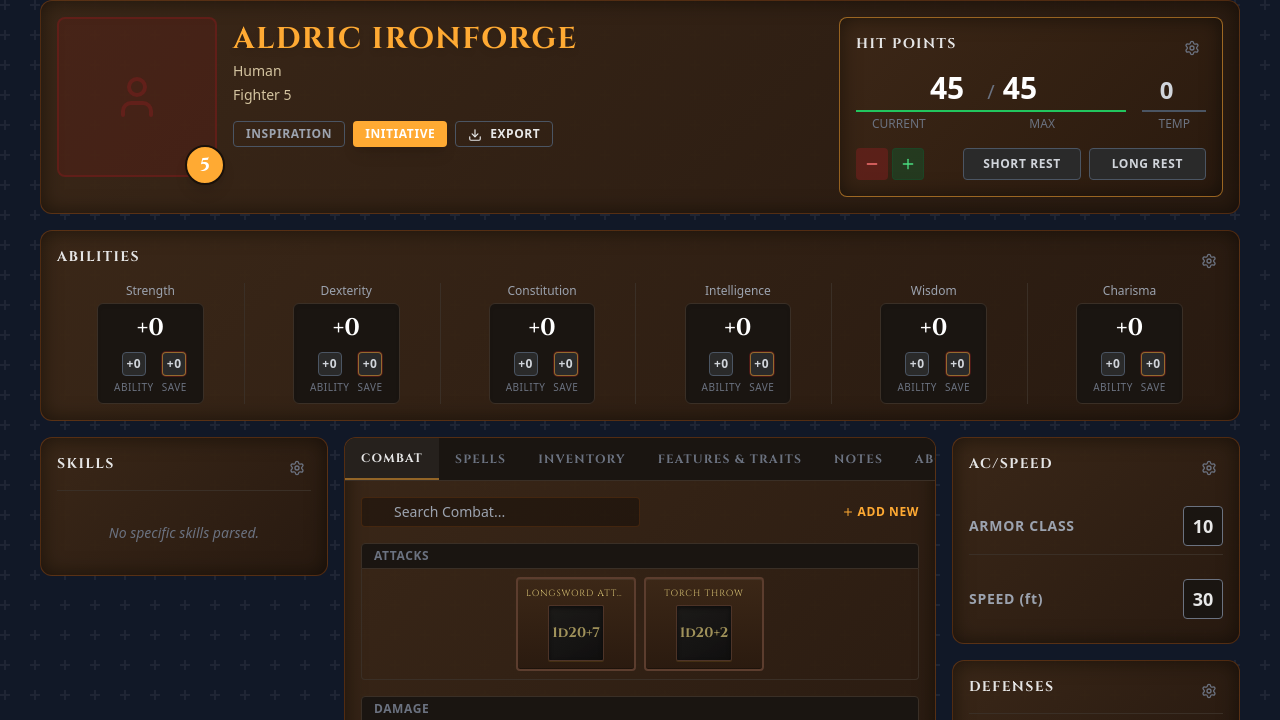
Search filter in Combat tab › filters roll rows to only show matches when user types
In the field with placeholder "Search Combat...": point(500, 512) [361,497,640,527], type "longsword"
(page scrolled)
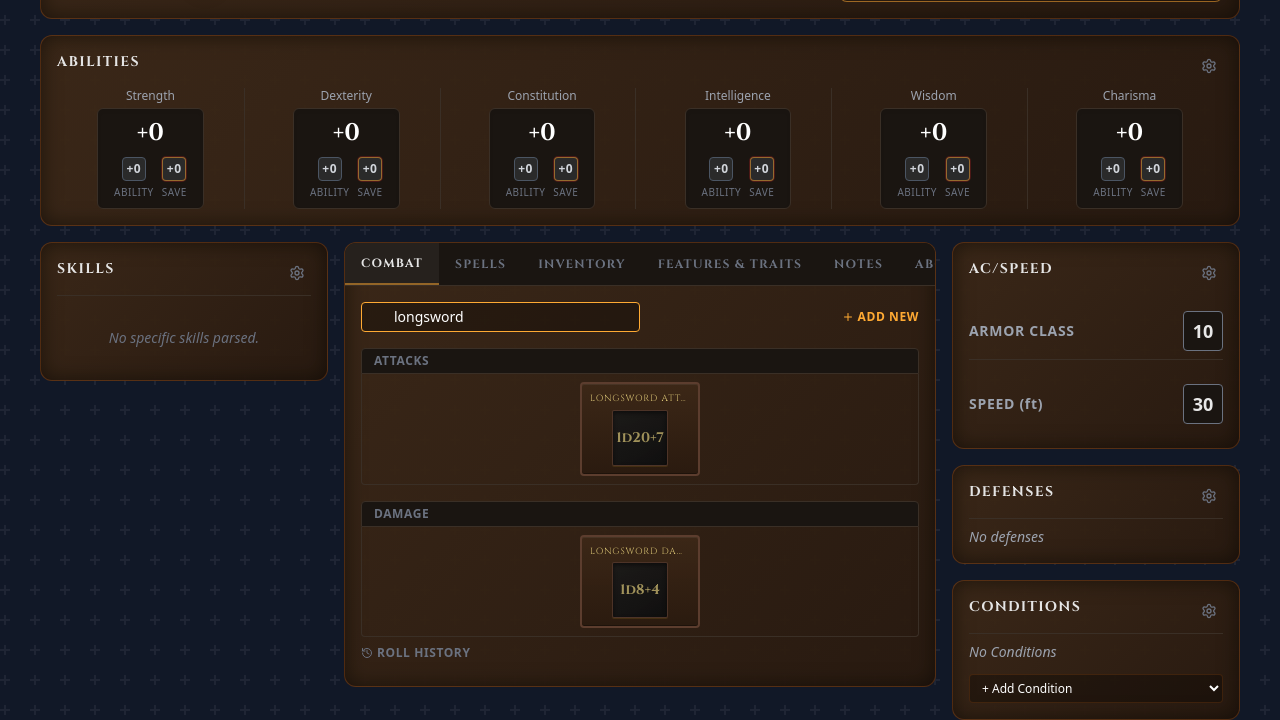
Expected: the text "Longsword Attack" is shown, [590,392,690,406]
Now no buttons "Torch Throw" are shown
